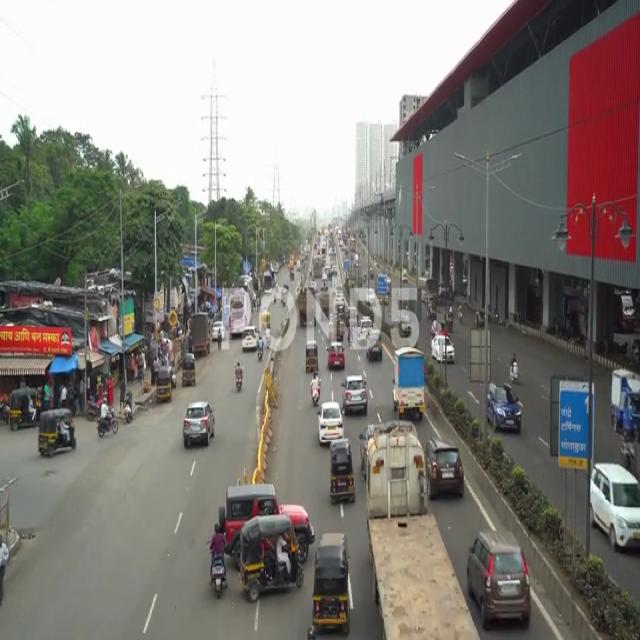car: (461, 524, 538, 633), (591, 460, 640, 556), (182, 396, 218, 453), (488, 381, 522, 433)
rikshaw: (313, 530, 351, 632)
truck: (365, 422, 481, 640)
